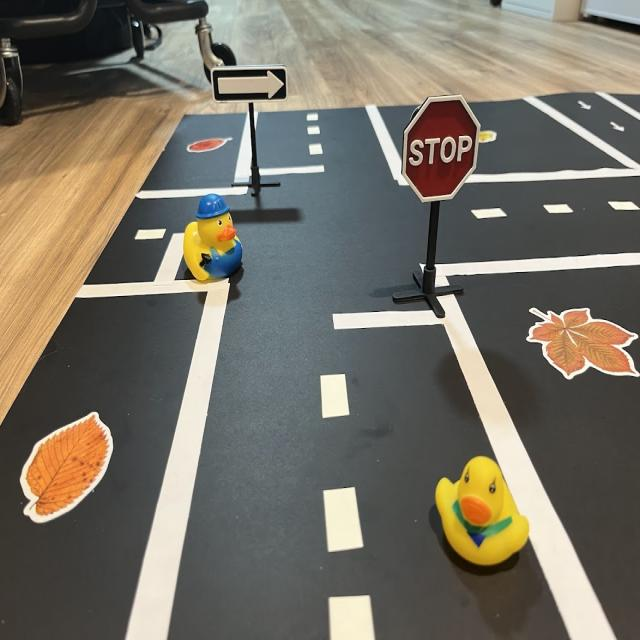duck_regular: (435, 458, 531, 576)
duck_specialty: (185, 195, 243, 282)
sign_oneway_right: (214, 67, 288, 103)
sign_stop: (404, 96, 482, 203)
